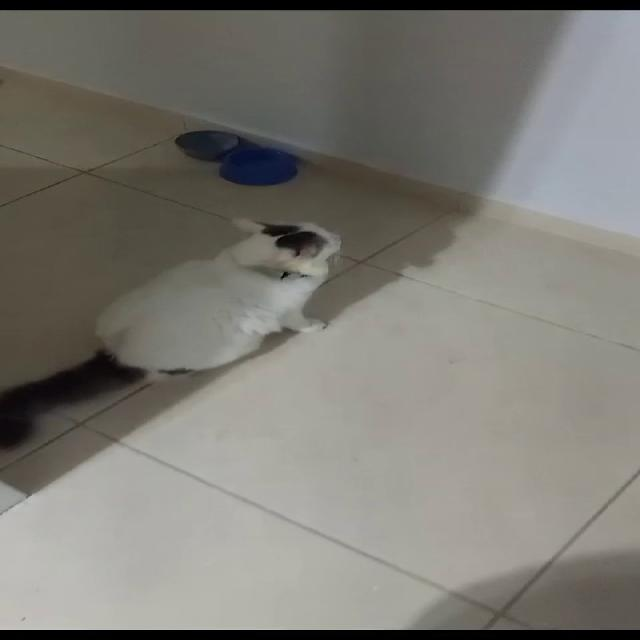Simba: (9, 180, 342, 513)
